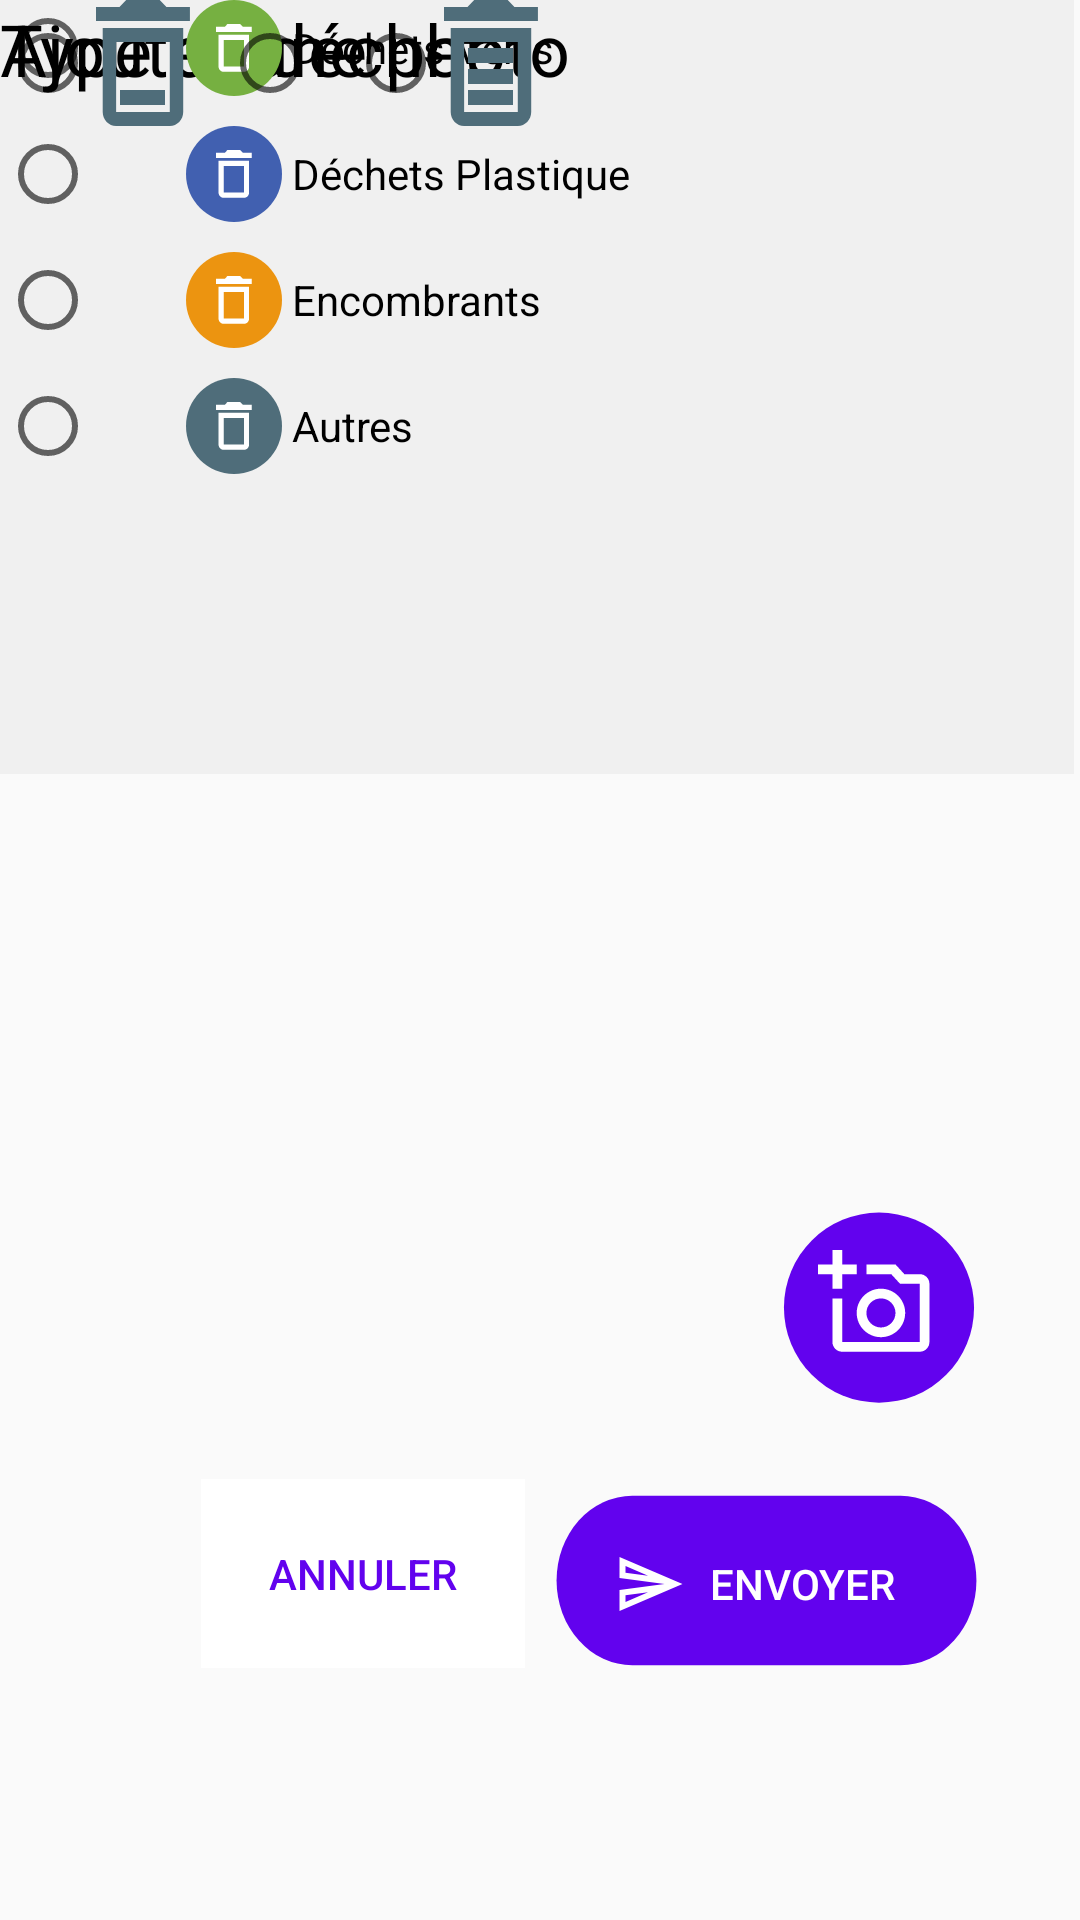

Locate icon controls on the screen. Image size 1080 x 1920, boxes as (x1, y1, x2, y2).
take photo: (784, 1212, 974, 1403)
